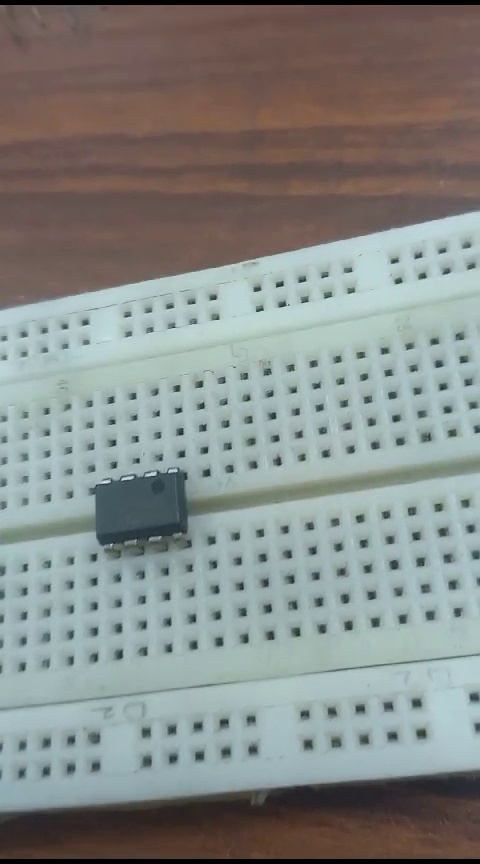IC: (78, 468, 195, 545)
